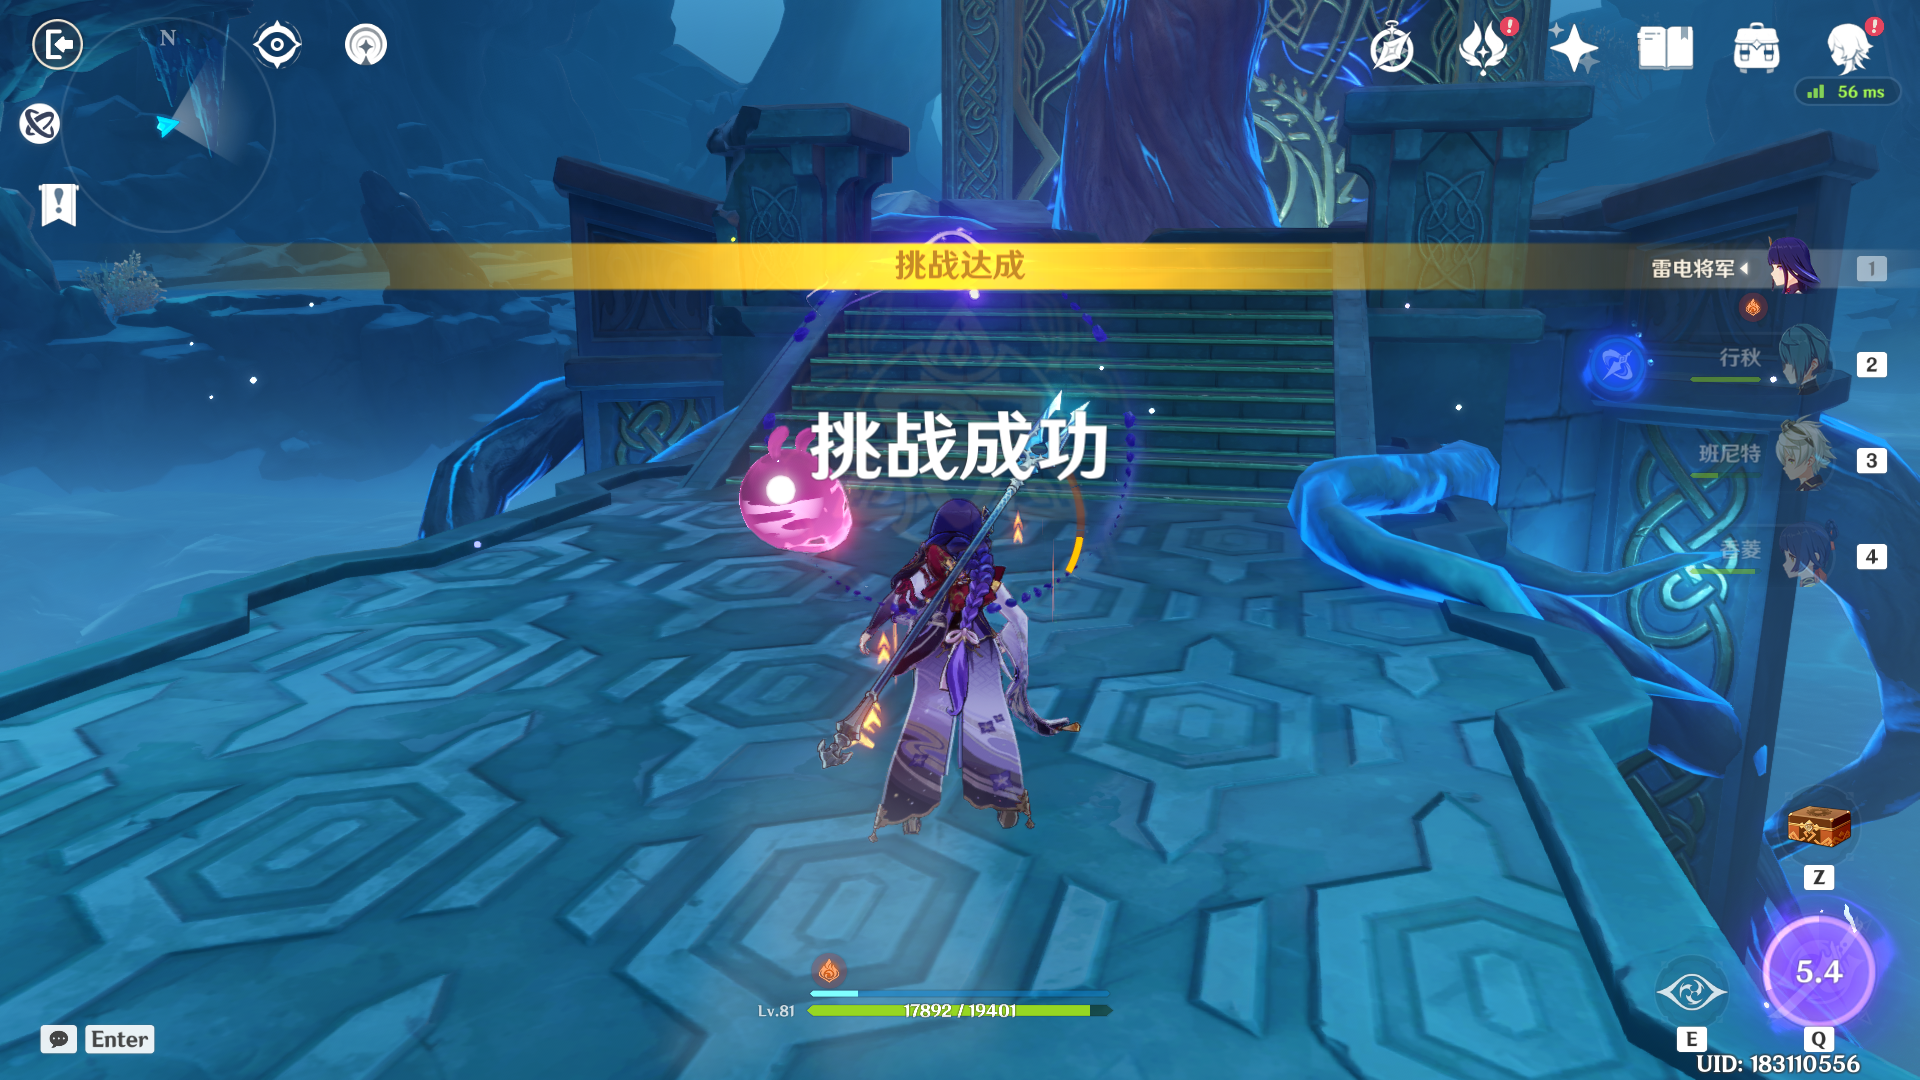character: (752, 430, 1091, 848)
